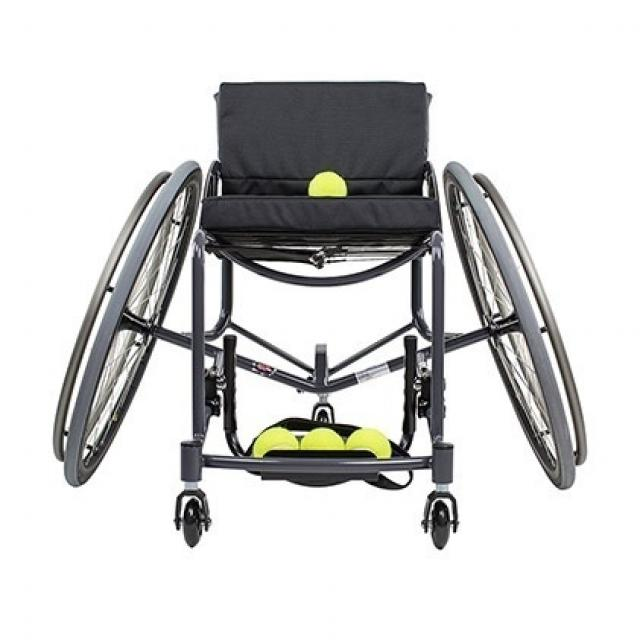wheelchair: (28, 74, 606, 575)
